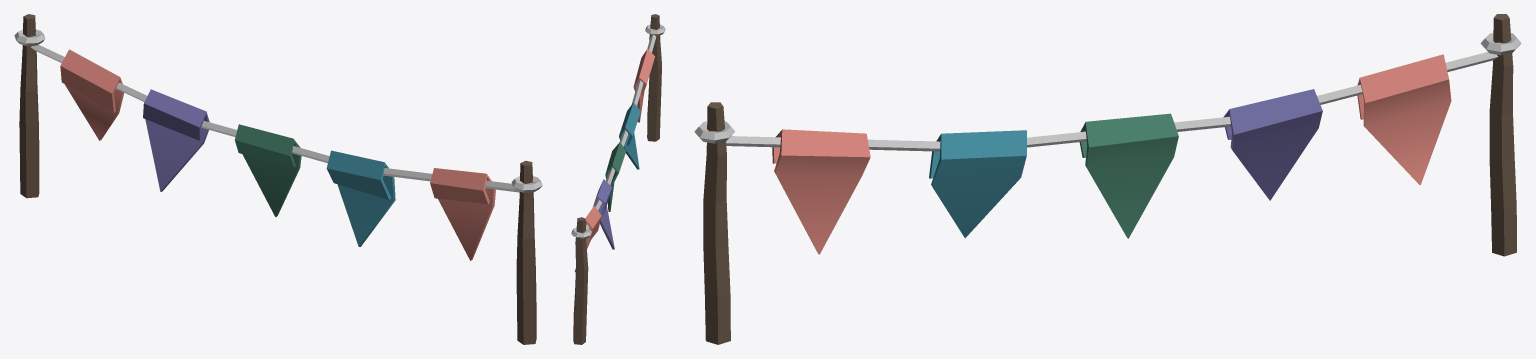
The model's file is fence5flags_2legs.fbx.
3 views of the same model, side by side, from view 1: azimuth 30°, elevation 25°; view 2: azimuth 150°, elevation 25°; view 3: azimuth 270°, elevation 25° (orthographic). The views are drawn at different scales.
Parts seen in each view (by area): view 1: fence9; view 2: fence9; view 3: fence9.
Part boxes in pixels (x1,y1,x2,y2): fence9: (14, 14, 542, 344); fence9: (571, 14, 665, 344); fence9: (694, 14, 1521, 344).
Size of the model in its own units: 152 by 135 by 377.
1 material, 1 textured.
